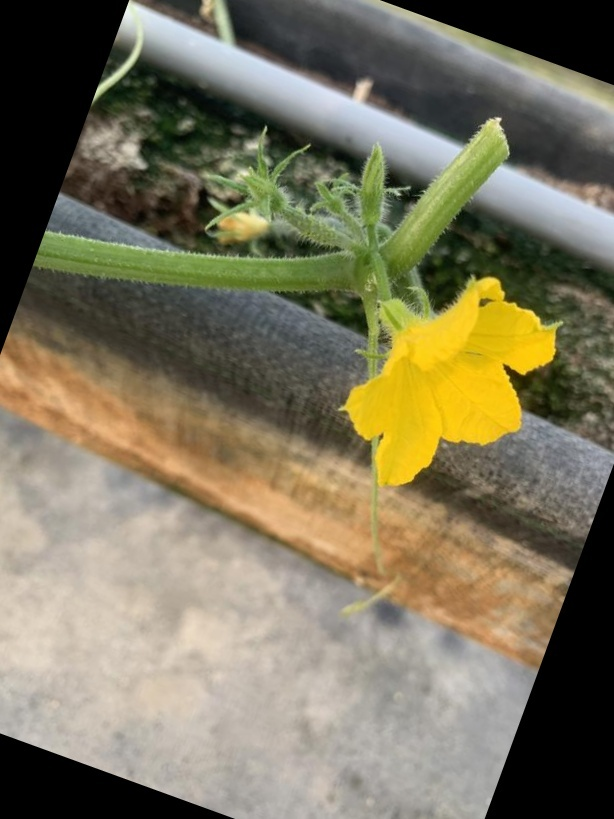flowering: (332, 267, 569, 491)
